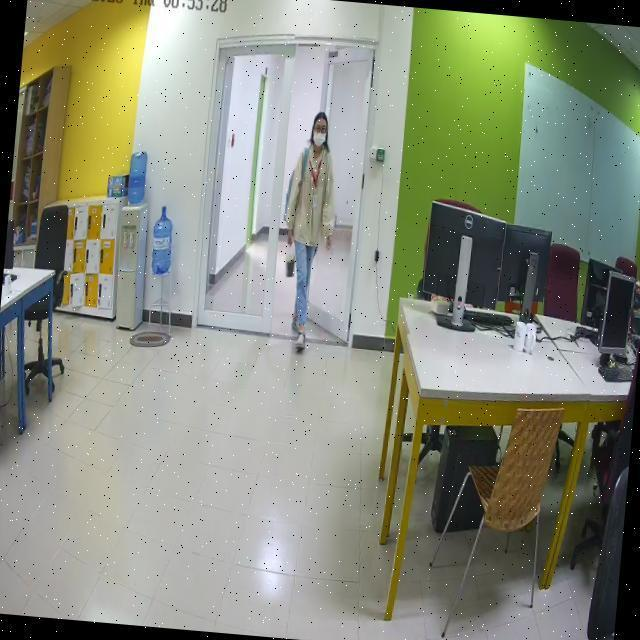person: (274, 110, 342, 350)
